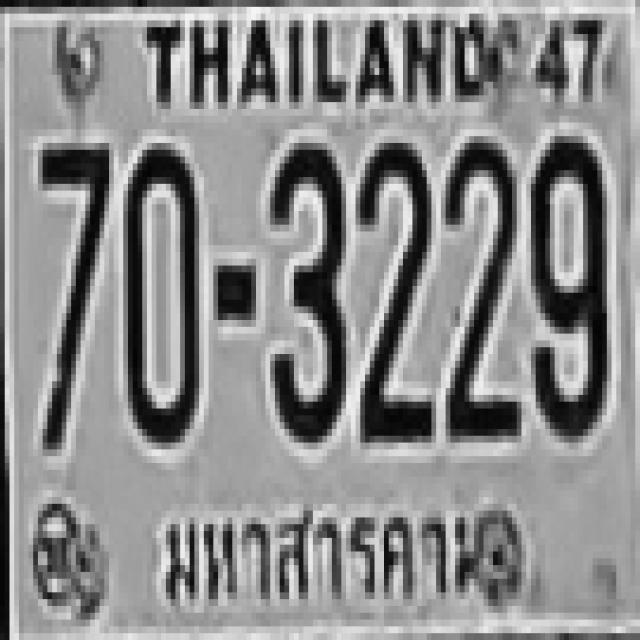0: (124, 143, 194, 443)
2: (356, 153, 432, 439), (438, 136, 514, 415), (353, 139, 429, 412), (441, 136, 512, 388)
3: (266, 136, 342, 436)
7: (38, 140, 109, 439)
9: (526, 133, 607, 432)
MahaSarakham: (162, 478, 494, 629)
